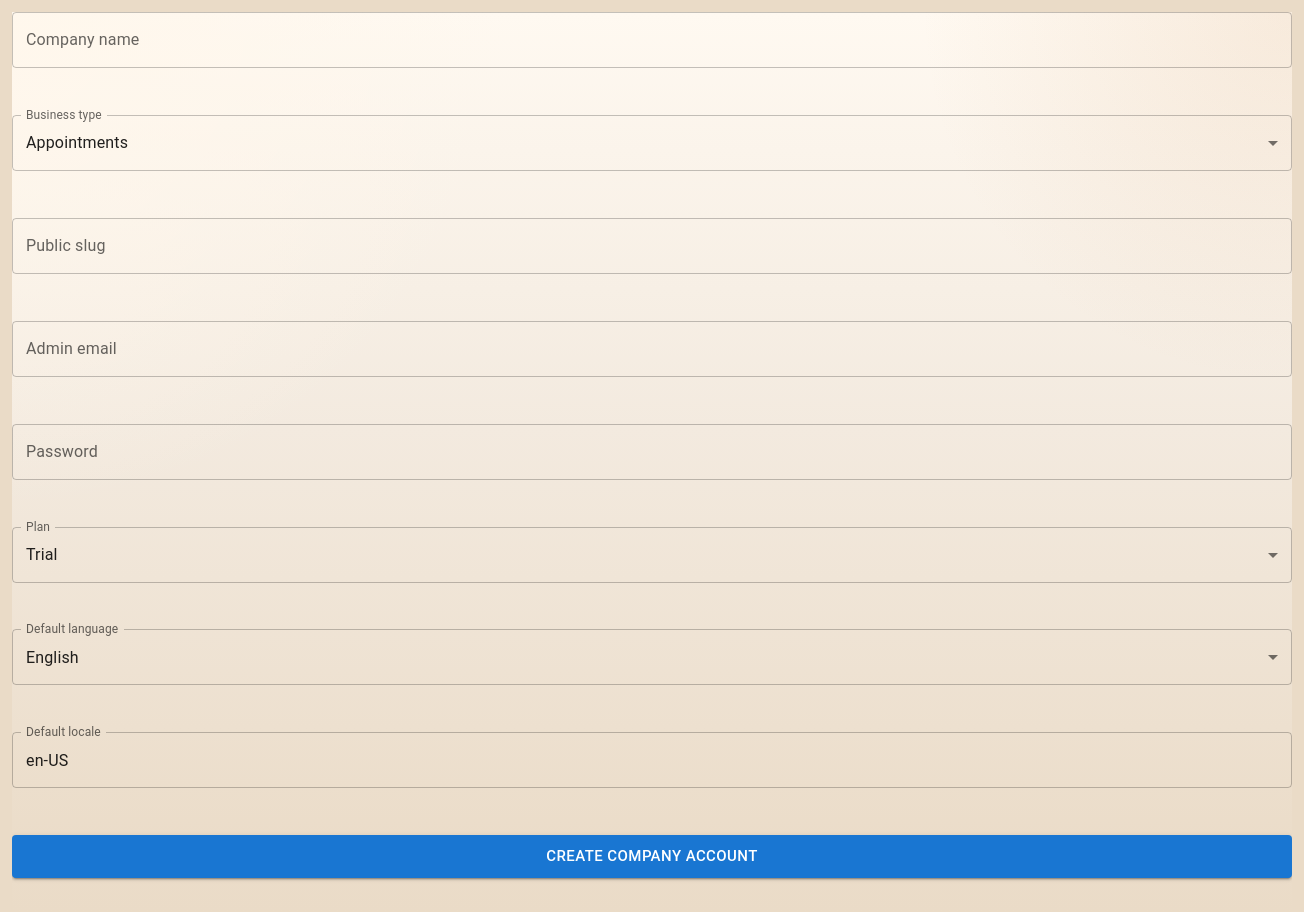
RegistrationForm › shows validation feedback for invalid input
Click the button "Create company account" at [652, 856], box [12, 835, 1292, 878]
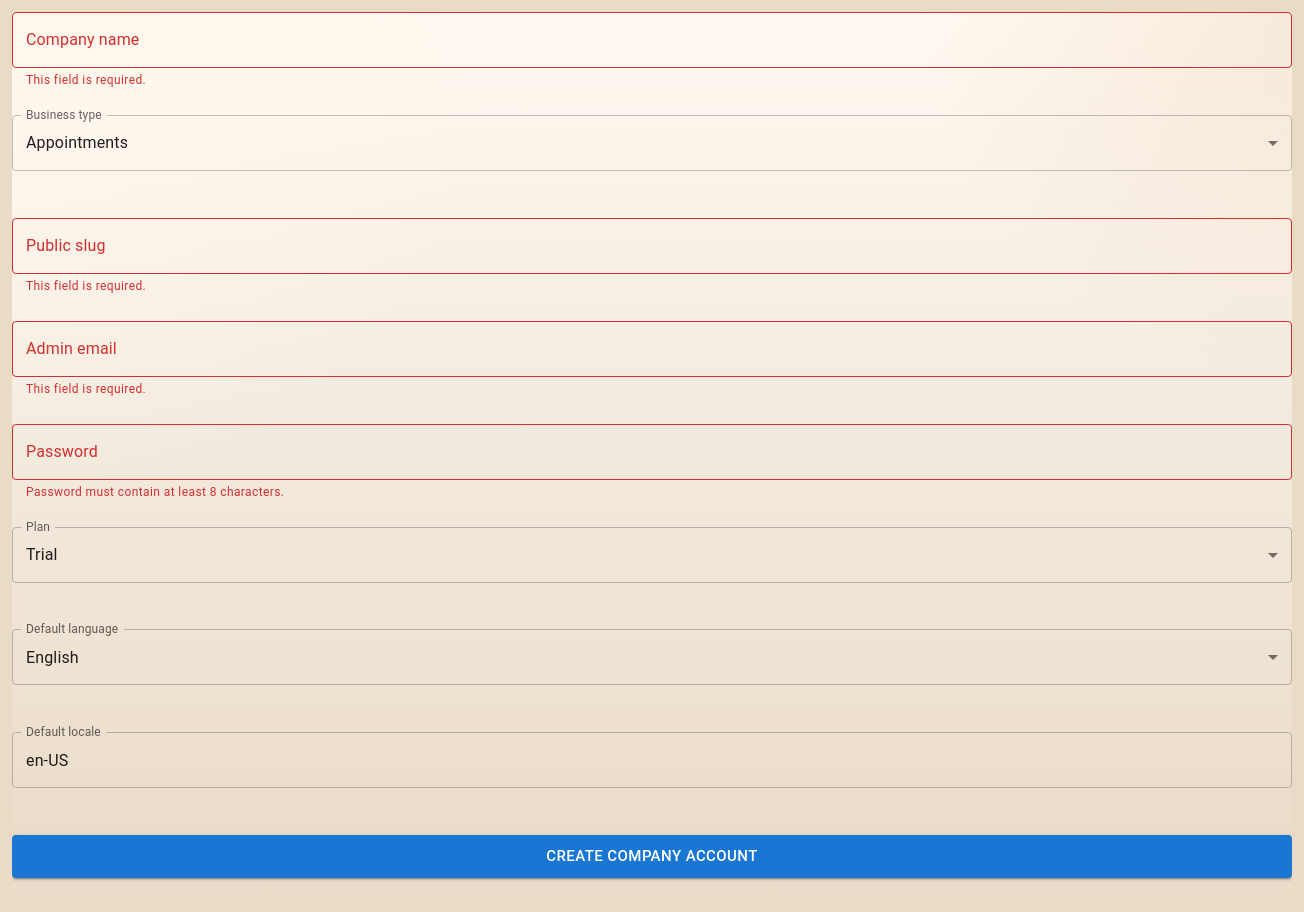
Expected: the text "Password must contain at least 8 characters." is shown, [26, 485, 284, 499]
